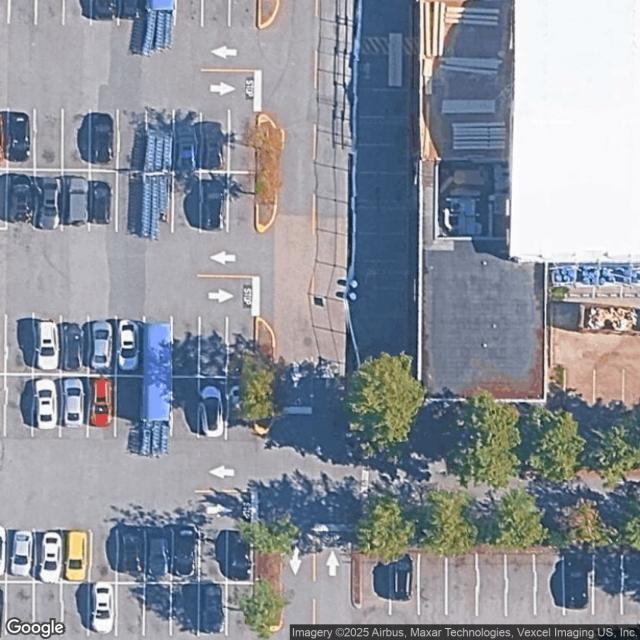car: (226, 525, 253, 582), (564, 554, 591, 611), (90, 113, 116, 166), (198, 386, 225, 437), (65, 529, 89, 584), (8, 172, 33, 224), (38, 174, 62, 228), (6, 112, 31, 163), (200, 585, 225, 635), (34, 378, 58, 430), (91, 583, 115, 635), (36, 318, 59, 372), (117, 320, 140, 373), (174, 525, 196, 580), (391, 552, 415, 602), (173, 120, 197, 169), (146, 531, 170, 580), (65, 176, 88, 227), (201, 180, 223, 233), (201, 122, 225, 170), (10, 528, 33, 578), (41, 530, 62, 584), (62, 322, 84, 371), (64, 377, 85, 428), (90, 178, 112, 226), (90, 378, 112, 426), (90, 322, 111, 370), (229, 383, 251, 421), (92, 0, 118, 22), (119, 0, 142, 22)
lot_boundary: (360, 549, 639, 639)
objects: (143, 321, 172, 456), (144, 124, 170, 236), (144, 0, 176, 56)
stall: (418, 554, 448, 613), (61, 112, 91, 170), (88, 112, 118, 170), (563, 556, 593, 614), (4, 170, 34, 228), (32, 112, 62, 170), (32, 170, 62, 228), (172, 172, 202, 230), (199, 318, 229, 376), (170, 318, 200, 376), (225, 172, 255, 230), (59, 316, 89, 374), (114, 317, 144, 375), (114, 172, 144, 230), (117, 112, 147, 170), (448, 554, 477, 612), (535, 554, 564, 612), (506, 554, 535, 612), (477, 555, 506, 613), (362, 556, 391, 614), (390, 555, 419, 613), (593, 556, 622, 614), (60, 171, 89, 229), (88, 172, 117, 230), (199, 172, 228, 230), (200, 112, 229, 170), (172, 112, 201, 170), (229, 114, 258, 172), (86, 318, 115, 376), (4, 316, 33, 374), (32, 317, 61, 375), (5, 375, 32, 436), (61, 375, 88, 436), (88, 377, 115, 438), (116, 377, 143, 438), (227, 319, 256, 375), (200, 378, 227, 438), (172, 378, 199, 438), (33, 376, 60, 436), (228, 378, 255, 438), (90, 530, 118, 584), (34, 528, 62, 582), (118, 530, 146, 584), (144, 529, 172, 583), (116, 584, 144, 638), (34, 582, 62, 636), (172, 584, 200, 638), (8, 112, 34, 169), (200, 528, 227, 582), (228, 529, 255, 583), (7, 528, 34, 582), (89, 582, 116, 636), (62, 583, 89, 637), (7, 582, 34, 636), (228, 584, 255, 638), (200, 584, 227, 638), (62, 528, 88, 582), (172, 528, 198, 582), (144, 584, 170, 638), (8, 0, 36, 24), (202, 0, 230, 24), (178, 0, 205, 24), (119, 0, 146, 24), (64, 0, 90, 24), (92, 0, 118, 24), (37, 1, 64, 24), (230, 1, 256, 24)
